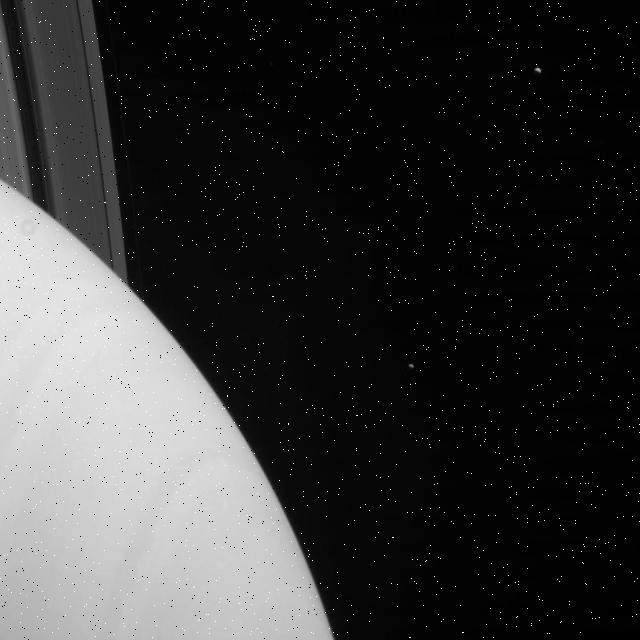Saturn: (0, 0, 348, 640)
